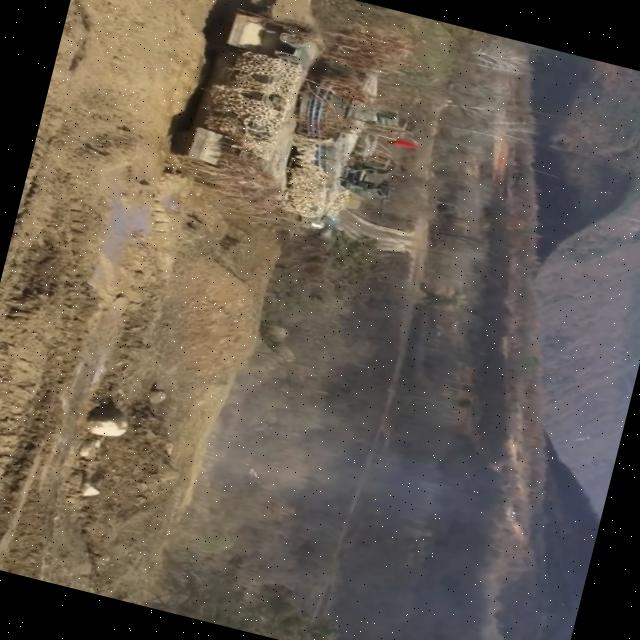korea tank: (140, 0, 430, 296)
